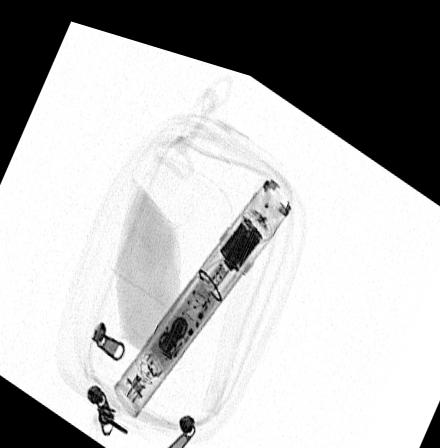Baton: (109, 155, 290, 410)
